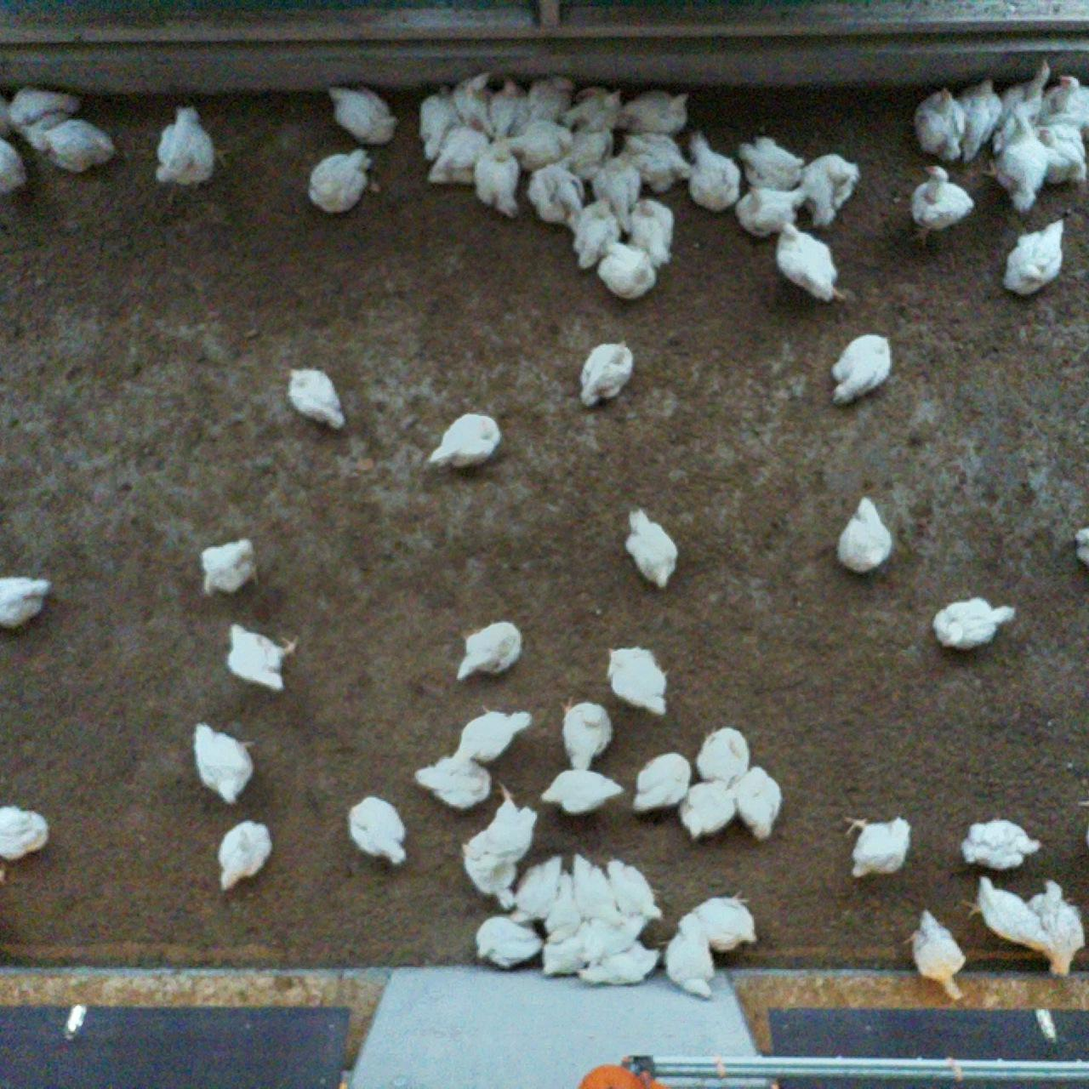chicken: (962, 872, 1051, 955), (153, 103, 234, 191), (460, 776, 540, 863), (980, 115, 1049, 215), (899, 906, 968, 1004), (771, 220, 847, 307), (1026, 876, 1089, 979), (988, 60, 1053, 158), (902, 162, 976, 248), (189, 718, 258, 806), (999, 217, 1070, 301), (222, 619, 302, 693), (955, 809, 1045, 874), (827, 331, 898, 411), (4, 84, 86, 153), (840, 810, 915, 884), (658, 910, 719, 1000), (683, 126, 744, 214), (929, 593, 1019, 652), (325, 81, 402, 149), (453, 617, 525, 689), (424, 410, 505, 473), (622, 506, 682, 591), (834, 494, 895, 576), (454, 702, 534, 764), (605, 643, 670, 719), (212, 818, 276, 895), (306, 146, 375, 217), (802, 149, 864, 228), (412, 753, 495, 811), (346, 793, 410, 868), (424, 119, 491, 190), (556, 691, 615, 771), (689, 887, 763, 950), (41, 116, 118, 176), (567, 192, 623, 274), (590, 147, 641, 236), (200, 535, 265, 604), (576, 337, 636, 411), (622, 129, 693, 191), (471, 138, 523, 222), (736, 131, 806, 193), (472, 914, 548, 971), (594, 238, 659, 304), (541, 767, 626, 817), (911, 85, 964, 165), (957, 75, 1005, 163), (731, 765, 784, 844), (629, 750, 693, 815), (509, 852, 565, 926), (286, 366, 348, 432), (604, 854, 664, 922), (511, 73, 574, 137), (733, 182, 809, 235), (525, 158, 585, 225), (570, 850, 623, 924), (694, 723, 754, 788), (1032, 120, 1089, 187), (614, 86, 691, 135), (626, 195, 678, 267), (460, 851, 521, 912), (677, 778, 737, 840), (505, 118, 573, 172), (573, 915, 646, 963), (1038, 71, 1089, 138), (564, 120, 617, 181), (561, 82, 625, 131), (416, 83, 455, 162), (0, 573, 54, 630), (0, 803, 53, 861), (543, 868, 582, 946), (452, 69, 492, 137), (488, 74, 529, 137), (539, 930, 587, 981), (0, 137, 31, 199), (1068, 523, 1089, 570)
